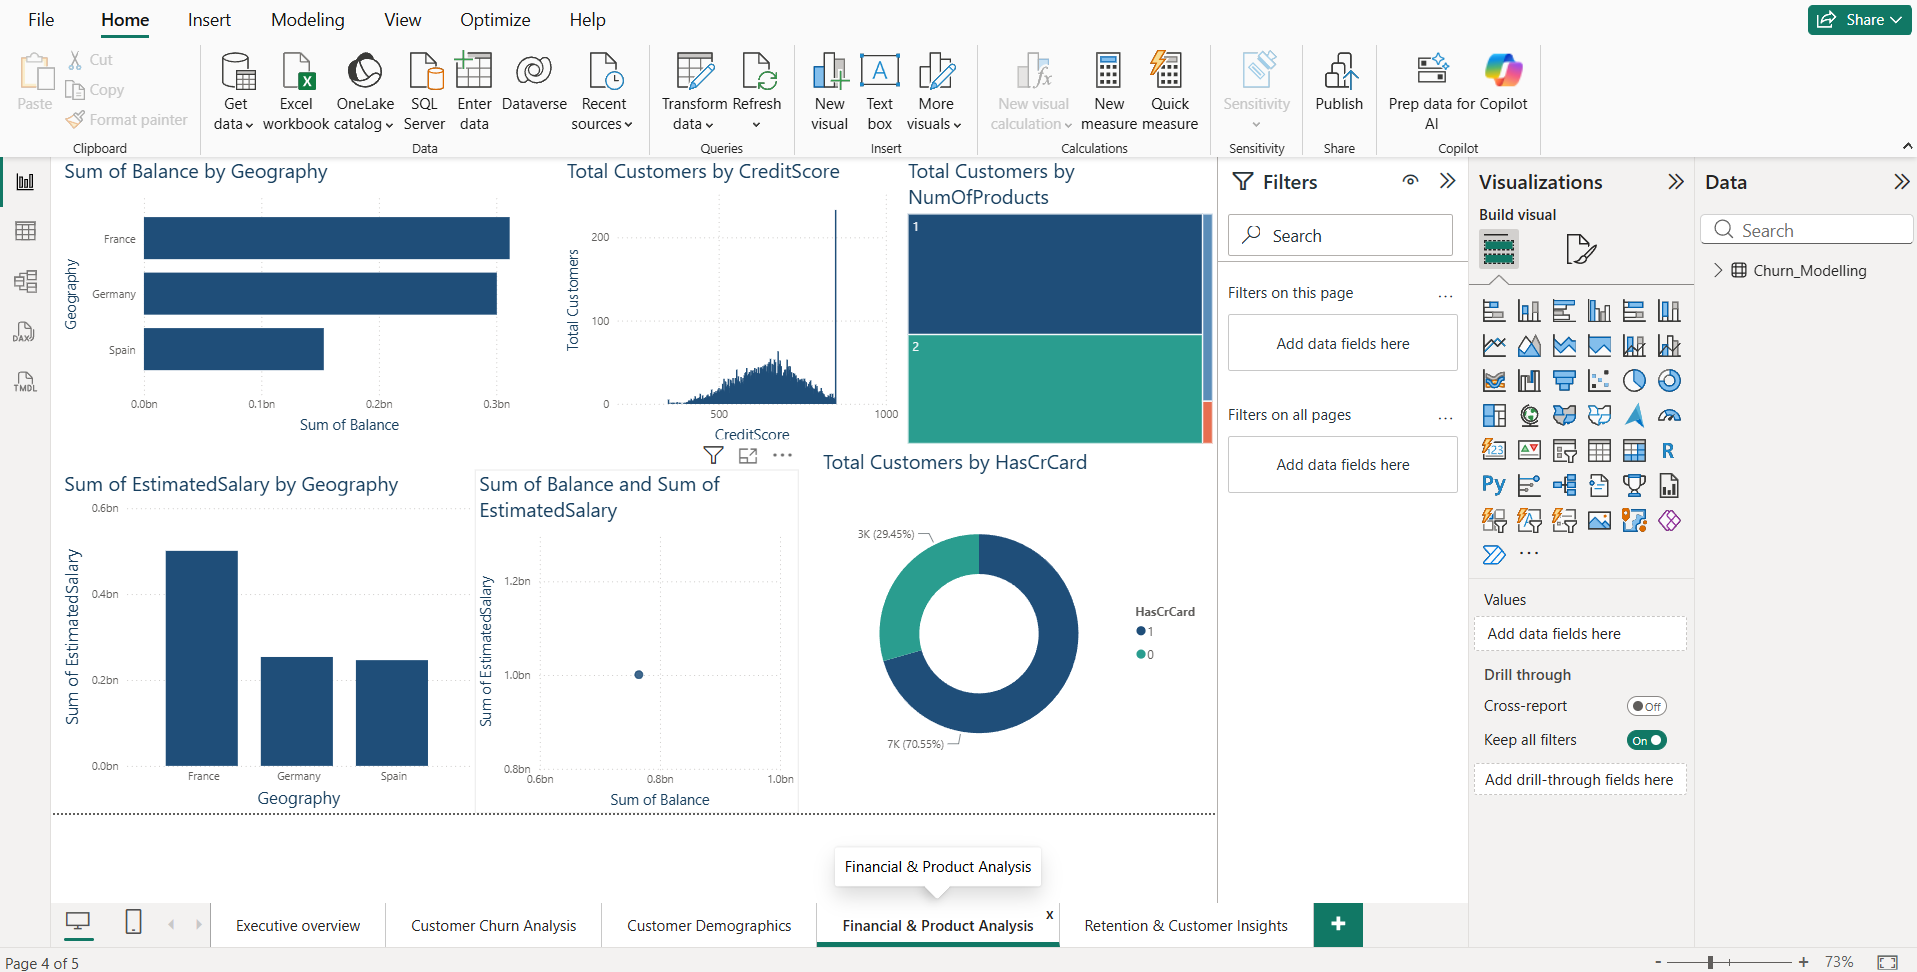

Layout of this report page (visuals, bound fields, positions):
{"tool":"powerbi","page":{"name":"Financial & Product Analysis","canvas":[1280,720],"ordinal":3},"visuals":[{"type":"clusteredBarChart","fields":{"Category":["Churn_Modelling.Geography"],"Y":["Sum(Churn_Modelling.Balance)"]},"box":[9.6,0,564,308.7],"z":0},{"type":"columnChart","fields":{"Y":["Churn_Modelling.Total Customers"],"Category":["Churn_Modelling.CreditScore"]},"box":[561.2,0,374.6,319.7],"z":1000},{"type":"treemap","fields":{"Group":["Churn_Modelling.NumOfProducts"],"Values":["Churn_Modelling.Total Customers"]},"box":[935.9,0,344.4,319.7],"z":2000},{"type":"donutChart","fields":{"Y":["Churn_Modelling.Total Customers"],"Category":["Churn_Modelling.HasCrCard"]},"box":[842.5,319.7,437.7,378.7],"z":3000},{"type":"columnChart","fields":{"Category":["Churn_Modelling.Geography"],"Y":["Sum(Churn_Modelling.EstimatedSalary)"]},"box":[9.6,343.1,455.6,377.4],"z":4000},{"type":"scatterChart","fields":{"X":["Sum(Churn_Modelling.Balance)"],"Y":["Sum(Churn_Modelling.EstimatedSalary)"]},"box":[465.2,343.1,355.4,377.4],"z":5000}]}

Visuals, with their boxes on the page's 1280x720 design canvas (x1, y1, x2, y2). These are canvas units, not pixel positions in the 1917x972 screenshot, which may show the page scaled, cropped or inside an application window:
clusteredBarChart - Churn_Modelling.Geography x Sum(Churn_Modelling.Balance): <bbox>10, 0, 574, 309</bbox>
columnChart - Churn_Modelling.Total Customers x Churn_Modelling.CreditScore: <bbox>561, 0, 936, 320</bbox>
treemap - Churn_Modelling.NumOfProducts x Churn_Modelling.Total Customers: <bbox>936, 0, 1280, 320</bbox>
donutChart - Churn_Modelling.Total Customers x Churn_Modelling.HasCrCard: <bbox>842, 320, 1280, 698</bbox>
columnChart - Churn_Modelling.Geography x Sum(Churn_Modelling.EstimatedSalary): <bbox>10, 343, 465, 720</bbox>
scatterChart - Sum(Churn_Modelling.Balance) x Sum(Churn_Modelling.EstimatedSalary): <bbox>465, 343, 821, 720</bbox>
